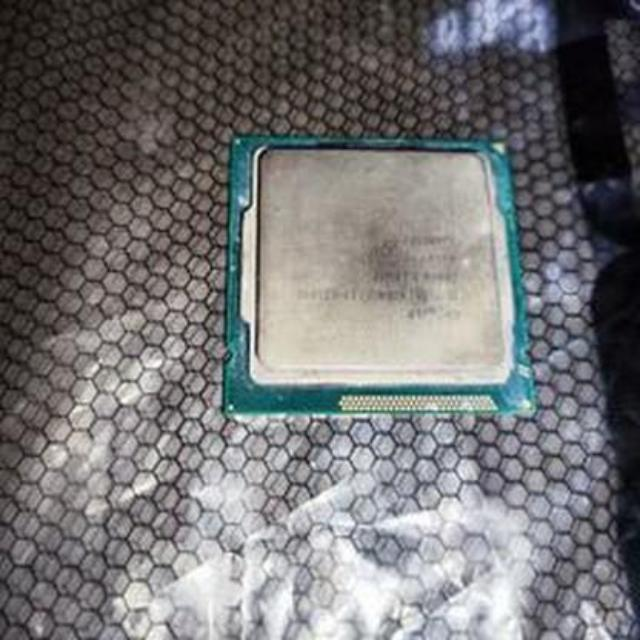CPU: (226, 126, 534, 417)
